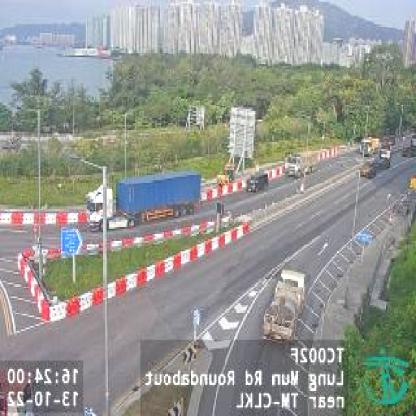Car: (246, 170, 268, 192)
Truck: (87, 172, 200, 231), (260, 266, 309, 344), (357, 145, 393, 183), (284, 148, 321, 177), (360, 137, 381, 155)
